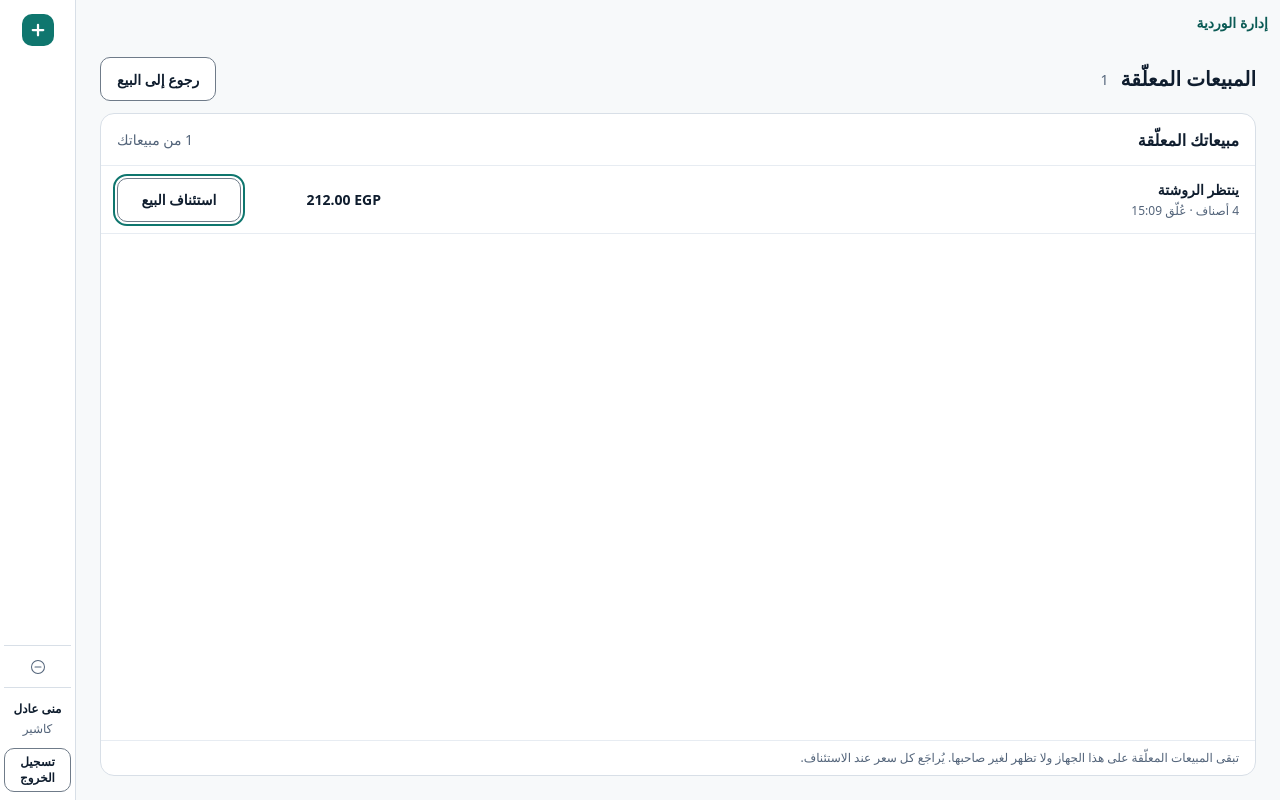
ParkProof › ReviewPrice reaches its review
The image size is (1280, 800).
Click the button "استئناف البيع".
click(179, 200)  # box [117,178,241,222]
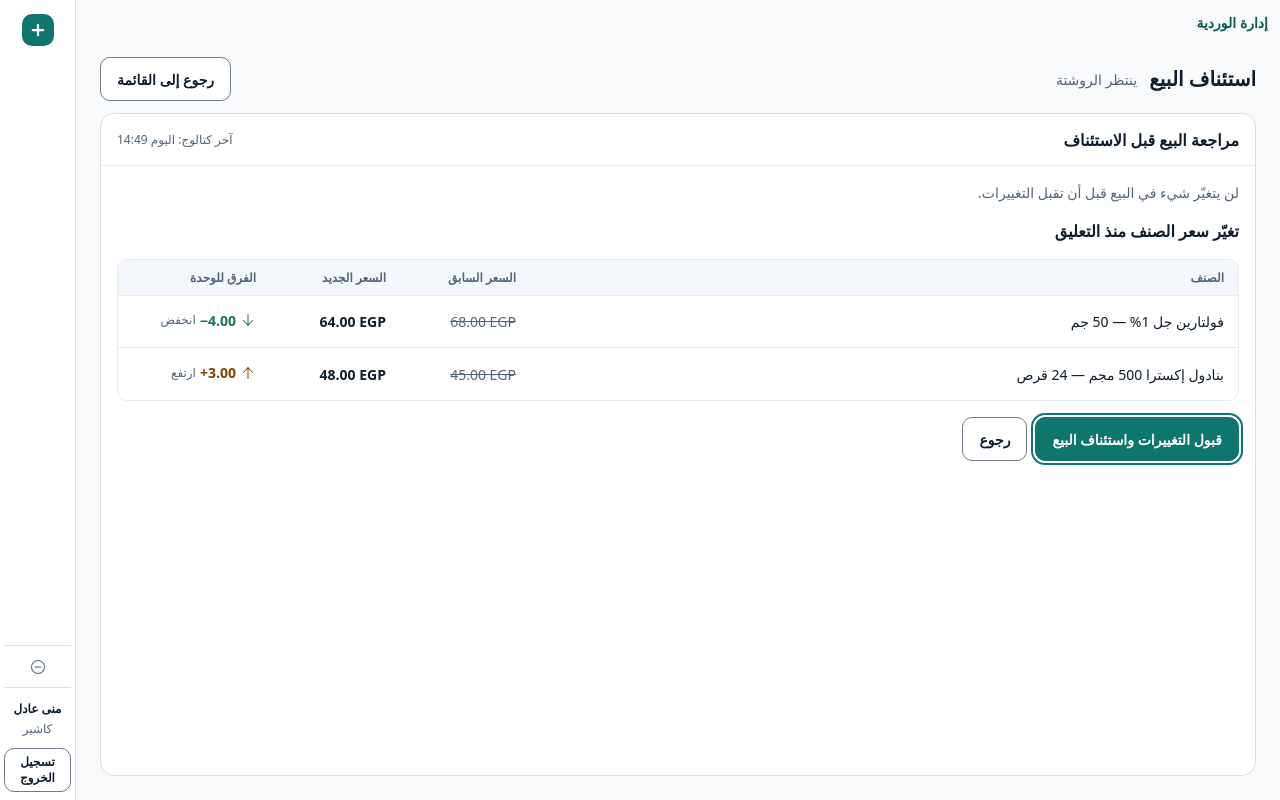
Now the button "قبول التغييرات واستئناف البيع" is shown, box [1036,417,1239,461]
